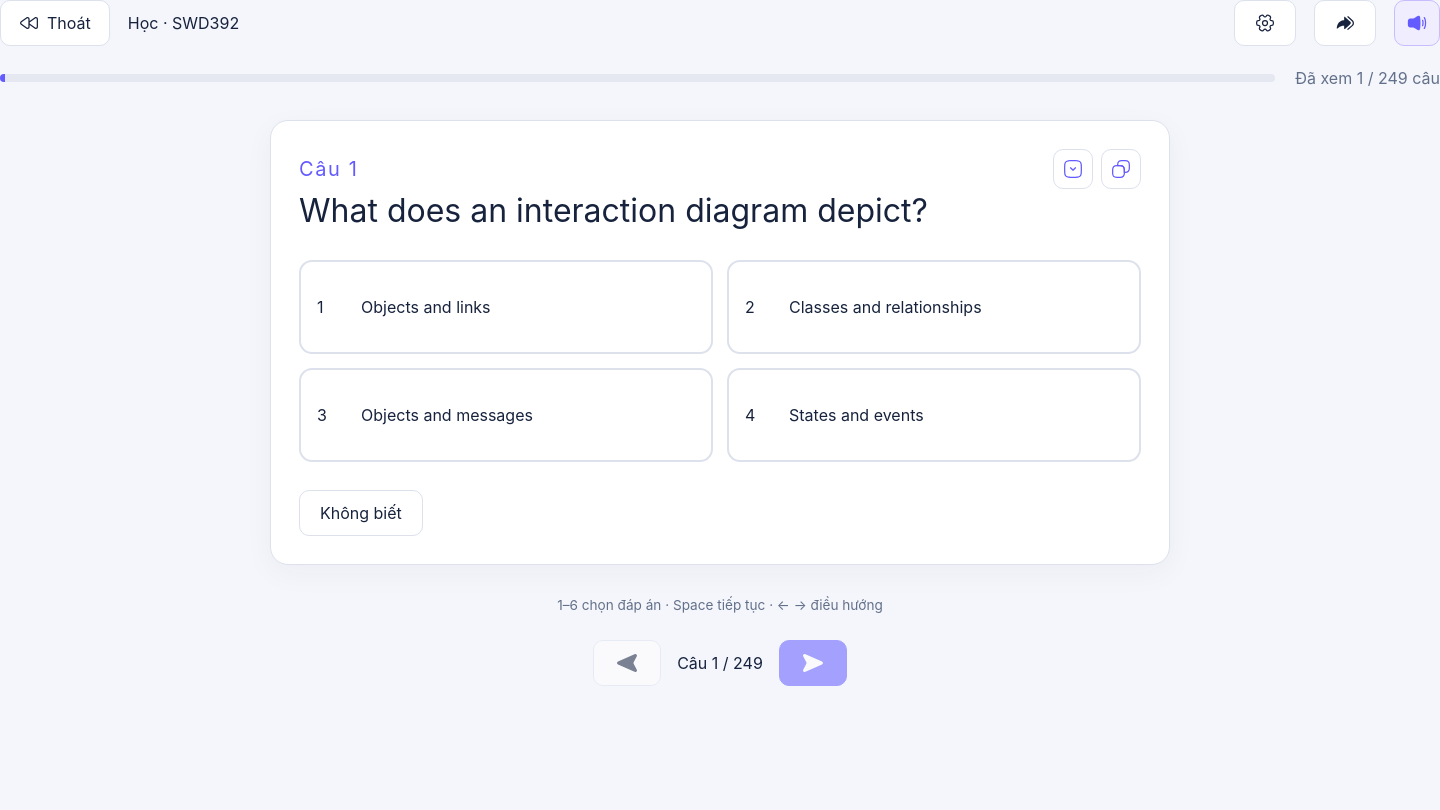
Test: StudyShell interactions and sound › jumps with a bounded slider and preserves saved answer history
This screenshot has width=1440, height=810.
Expected: the text "Câu 1" is shown, [299,154,358,184]
Click the button "3 Objects and messages": (506, 415) [299,368,713,462]
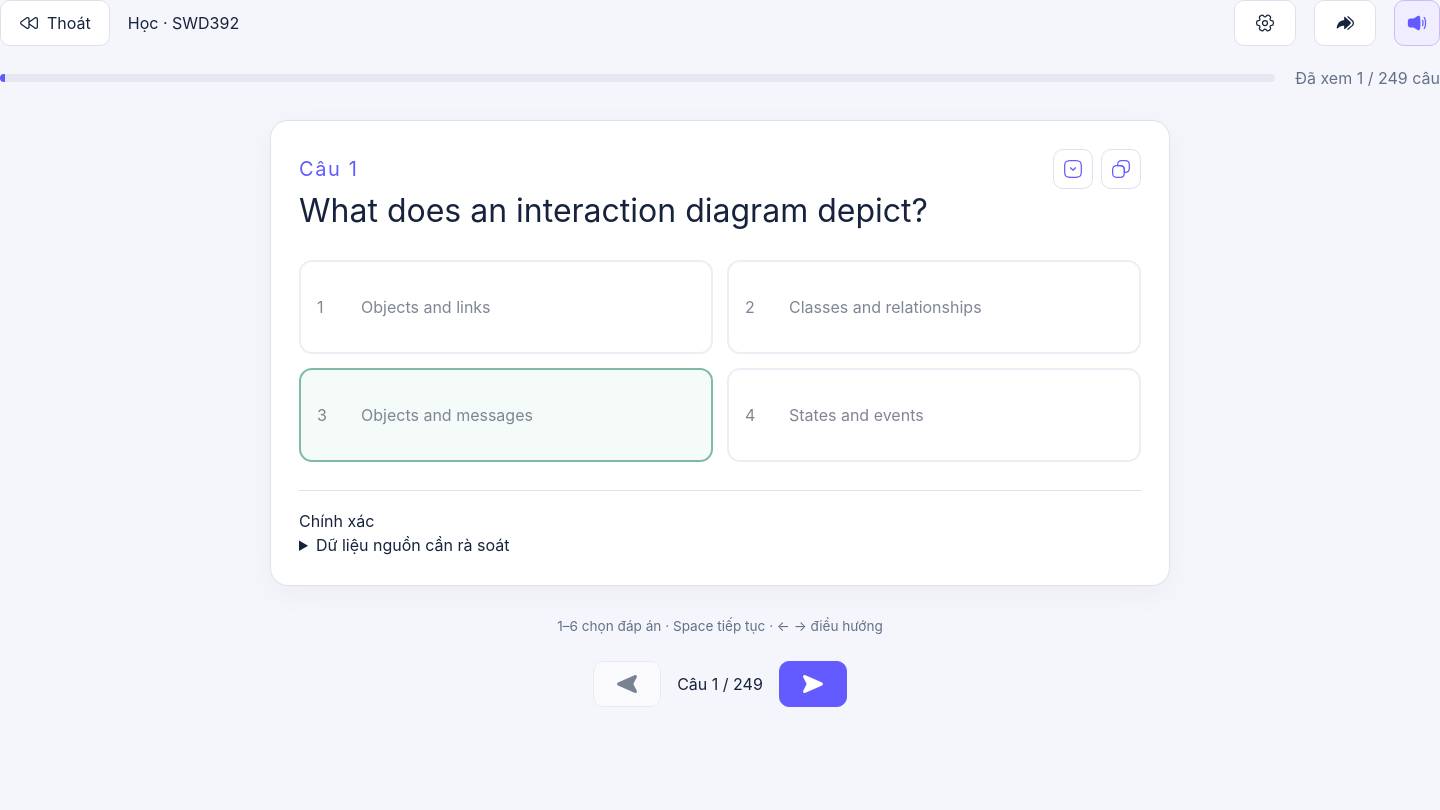
Click the button named "Chuyển câu hỏi": (1345, 23) [1314,0,1376,46]
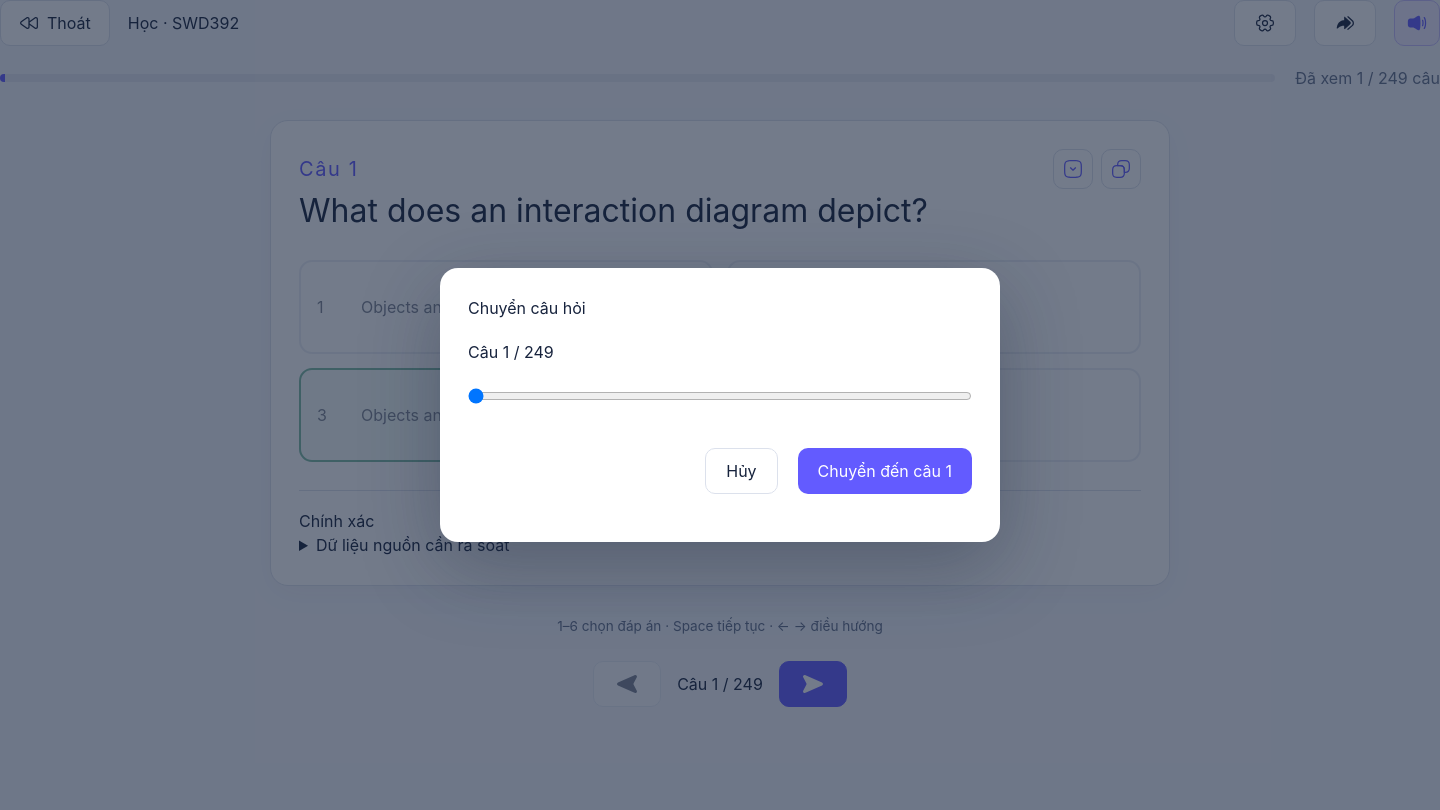
Set the slider named "Vị trí câu hỏi" to "100": (671, 396) [468,388,972,404]
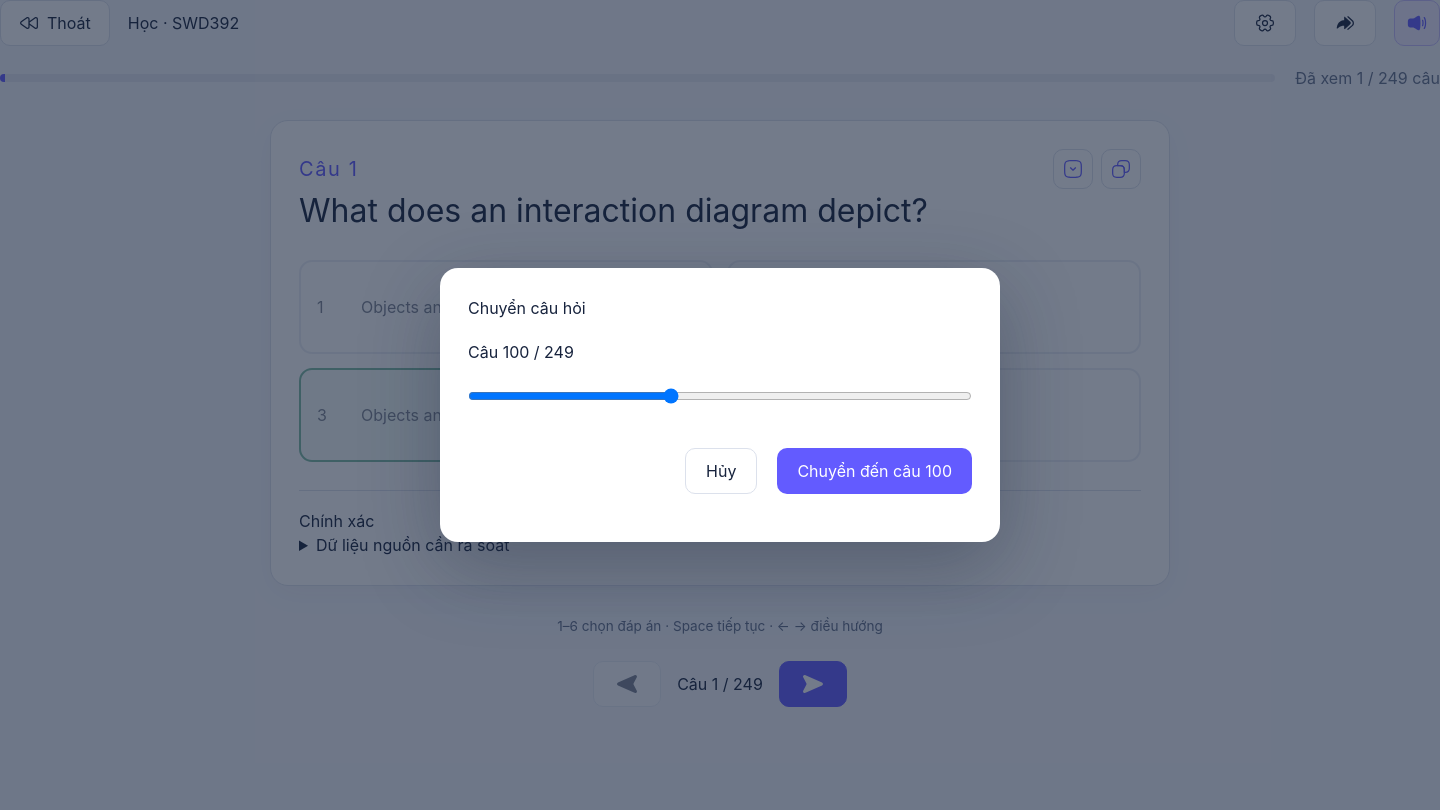
Click the button "Chuyển đến câu 100": (875, 471) [777,448,972,494]
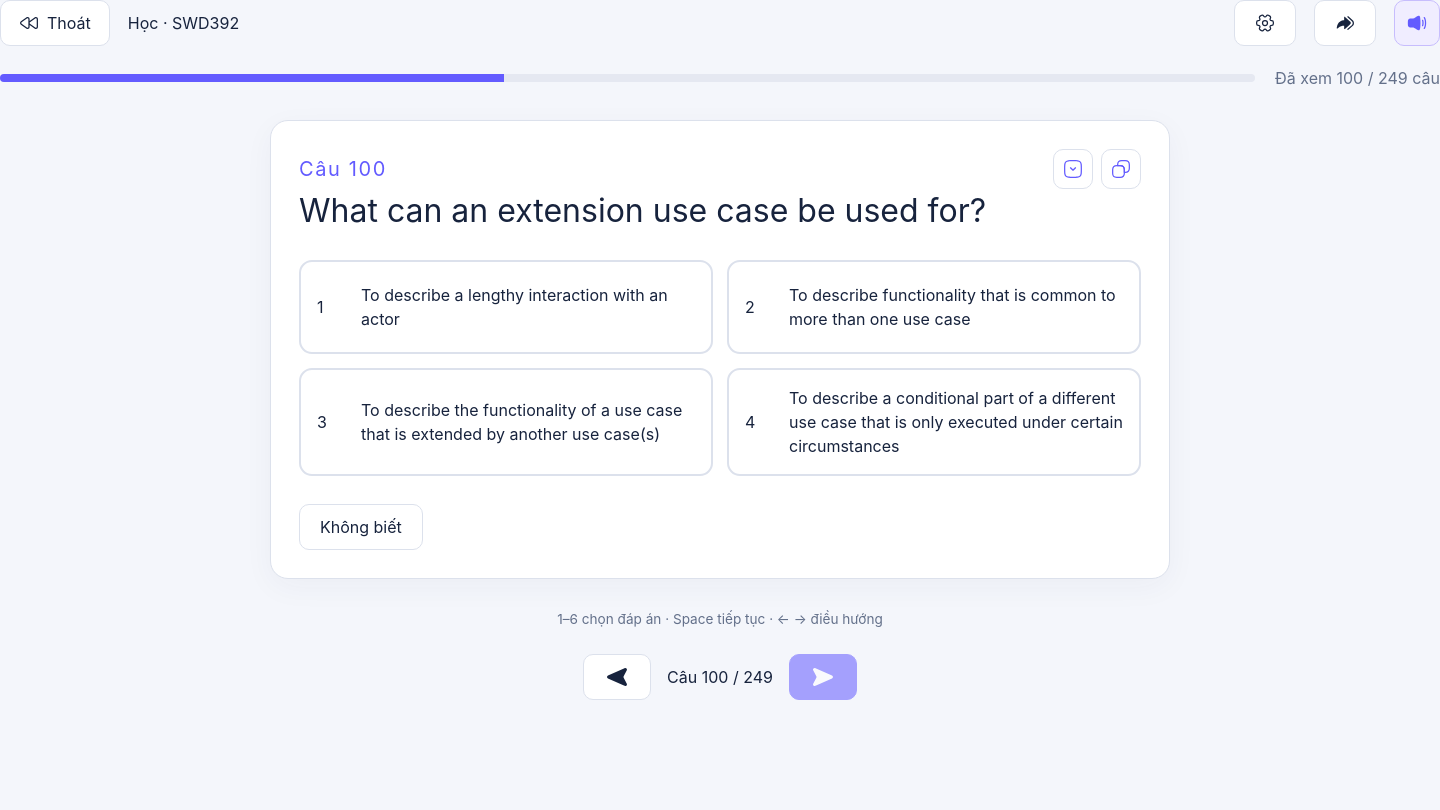
Expected: the text "Câu 100" is shown, [299,154,387,184]
